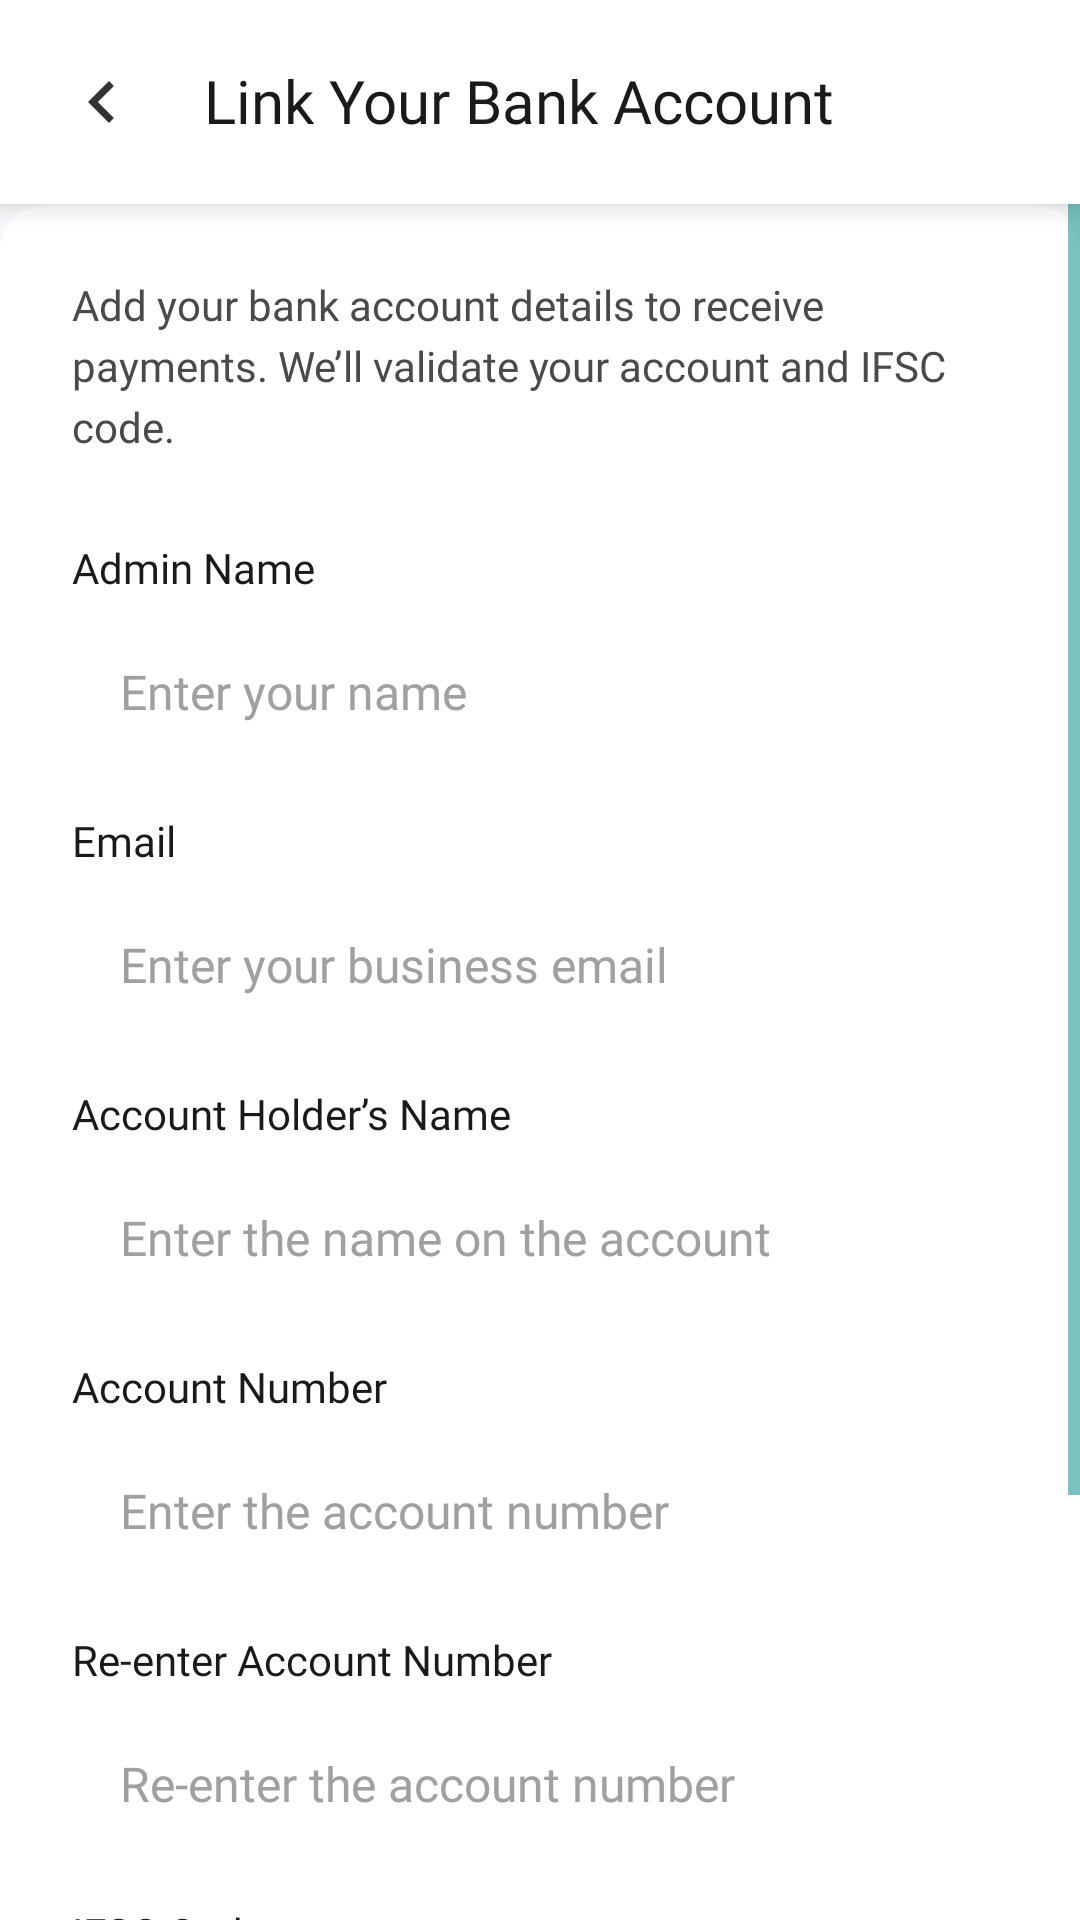

Where to tap for icons on this 1080×1920 app screen, as (x=x, y=y):
Back: (x=101, y=102)
